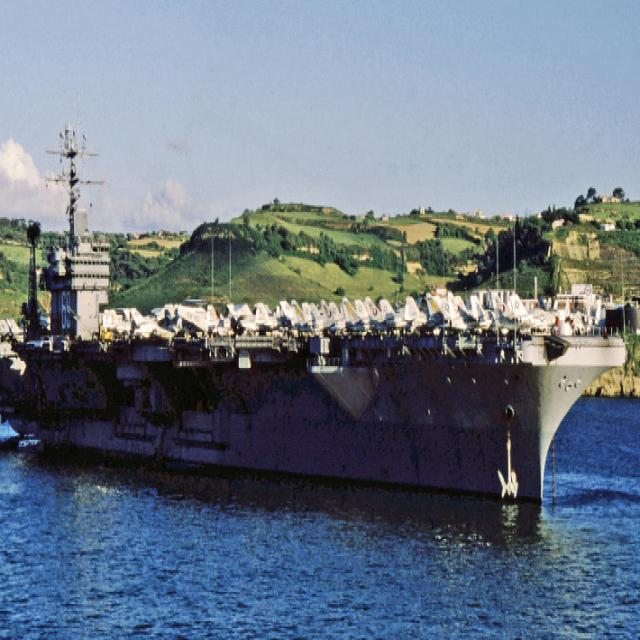Portanaves: (1, 112, 634, 513)
